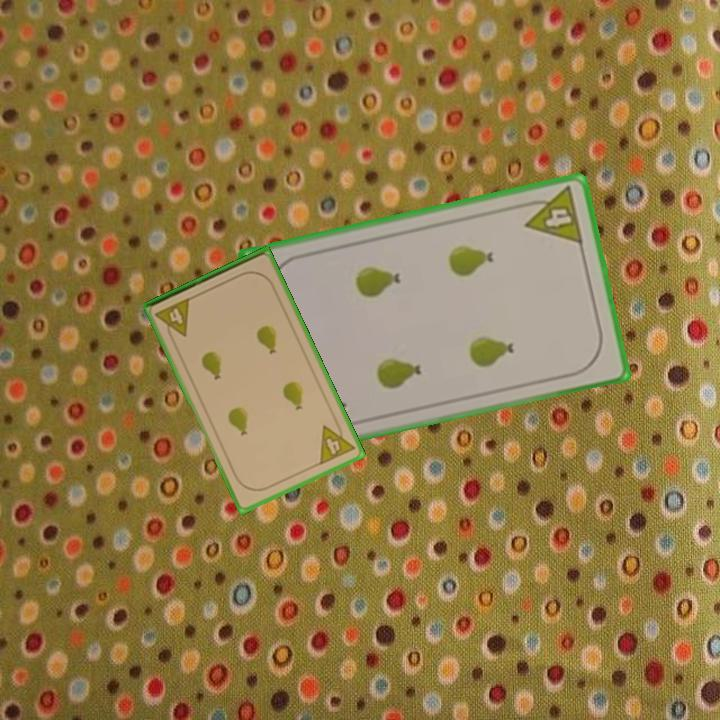4p: (517, 183, 586, 247), (316, 416, 358, 468), (152, 294, 194, 344)
